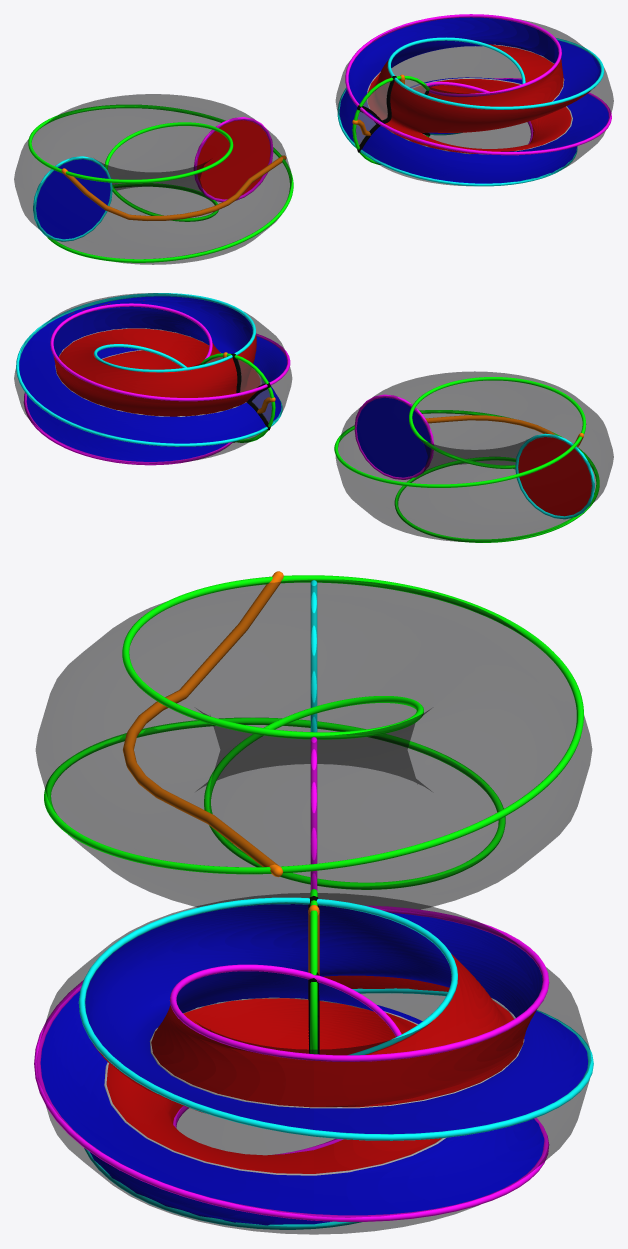
Rendered from meridionaldiskreductionL31.glb.
The picture shows the model from 3 angles, top to bottom: view 1: azimuth 30°, elevation 25°; view 2: azimuth 150°, elevation 25°; view 3: azimuth 270°, elevation 25°; orthographic projection. The views are drawn at different scales.
Visible parts, largest first — view 1: Torus.001, Torus, Circle_T_alt, meridional disks.001, TorusKnot_3_1, boundary1, boundary2, Circle.001, meridional_disk_intersection, boundary1.001, boundary2.001, meridional_disk_intersection_bdry (+2 smaller); view 2: Torus.001, Torus, Circle_T_alt, meridional disks.001, TorusKnot_3_1, boundary2, boundary1, Circle.001, boundary2.001, meridional_disk_intersection, boundary1.001, meridional_disk_intersection_bdry (+2 smaller); view 3: Torus.001, Torus, Circle_T_alt, TorusKnot_3_1, boundary1, boundary2, Circle.001, sing, meridional_disk_intersection_bdry, boundary1.001, boundary2.001.
Boxes of the visible parts, <box> form: Torus.001: <box>14,94,292,264</box>; Torus: <box>335,17,613,186</box>; Circle_T_alt: <box>339,17,608,183</box>; meridional disks.001: <box>36,120,270,239</box>; TorusKnot_3_1: <box>28,104,293,262</box>; boundary1: <box>345,14,611,155</box>; boundary2: <box>337,37,604,186</box>; Circle.001: <box>61,74,404,220</box>; meridional_disk_intersection: <box>356,79,426,145</box>; boundary1.001: <box>194,117,273,201</box>; boundary2.001: <box>33,156,112,241</box>; meridional_disk_intersection_bdry: <box>352,76,429,164</box>; Torus.001: <box>335,371,613,542</box>; Torus: <box>14,293,292,463</box>; Circle_T_alt: <box>19,296,286,461</box>; meridional disks.001: <box>356,397,591,516</box>; TorusKnot_3_1: <box>334,377,599,542</box>; boundary2: <box>16,293,282,446</box>; boundary1: <box>23,303,290,465</box>; Circle.001: <box>223,352,583,447</box>; boundary2.001: <box>515,433,594,519</box>; meridional_disk_intersection: <box>205,357,271,439</box>; boundary1.001: <box>354,394,433,479</box>; meridional_disk_intersection_bdry: <box>199,353,275,442</box>; Torus.001: <box>35,579,592,909</box>; Torus: <box>36,893,591,1234</box>; Circle_T_alt: <box>40,904,587,1225</box>; TorusKnot_3_1: <box>44,575,583,889</box>; boundary1: <box>34,905,549,1221</box>; boundary2: <box>78,897,593,1229</box>; Circle.001: <box>123,571,319,975</box>; sing: <box>104,997,524,1175</box>; meridional_disk_intersection_bdry: <box>310,889,317,1054</box>; boundary1.001: <box>310,737,317,890</box>; boundary2.001: <box>310,580,317,732</box>.
Size of the model in its own units: 7 by 1.06 by 3.02.
